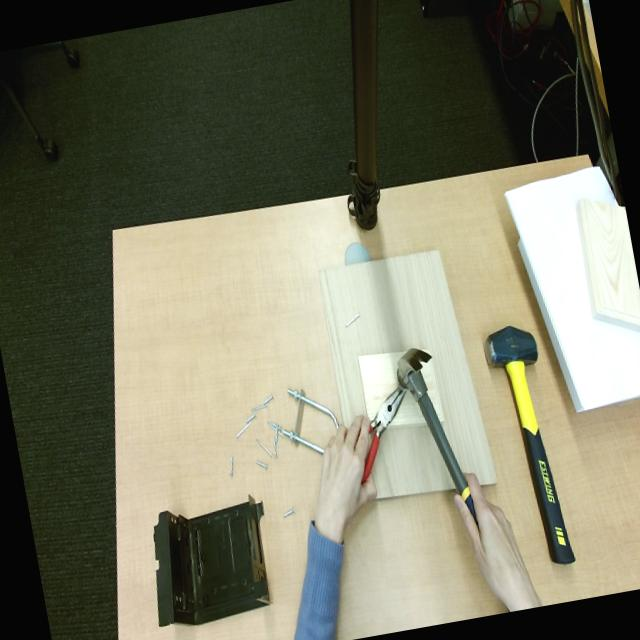hammer: (484, 325, 574, 564), (397, 349, 477, 521)
pliers: (361, 385, 406, 484)
